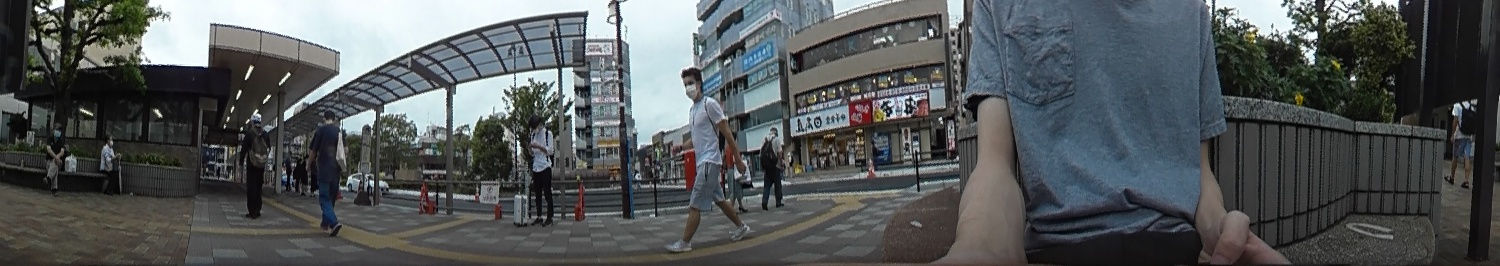difficult_person: (300, 154, 310, 195), (868, 139, 879, 169)
person: (670, 63, 752, 247), (308, 111, 350, 239), (520, 114, 557, 226), (240, 111, 269, 218), (1447, 91, 1474, 193), (759, 126, 784, 209), (728, 131, 750, 210), (96, 135, 124, 193), (42, 118, 63, 191)
